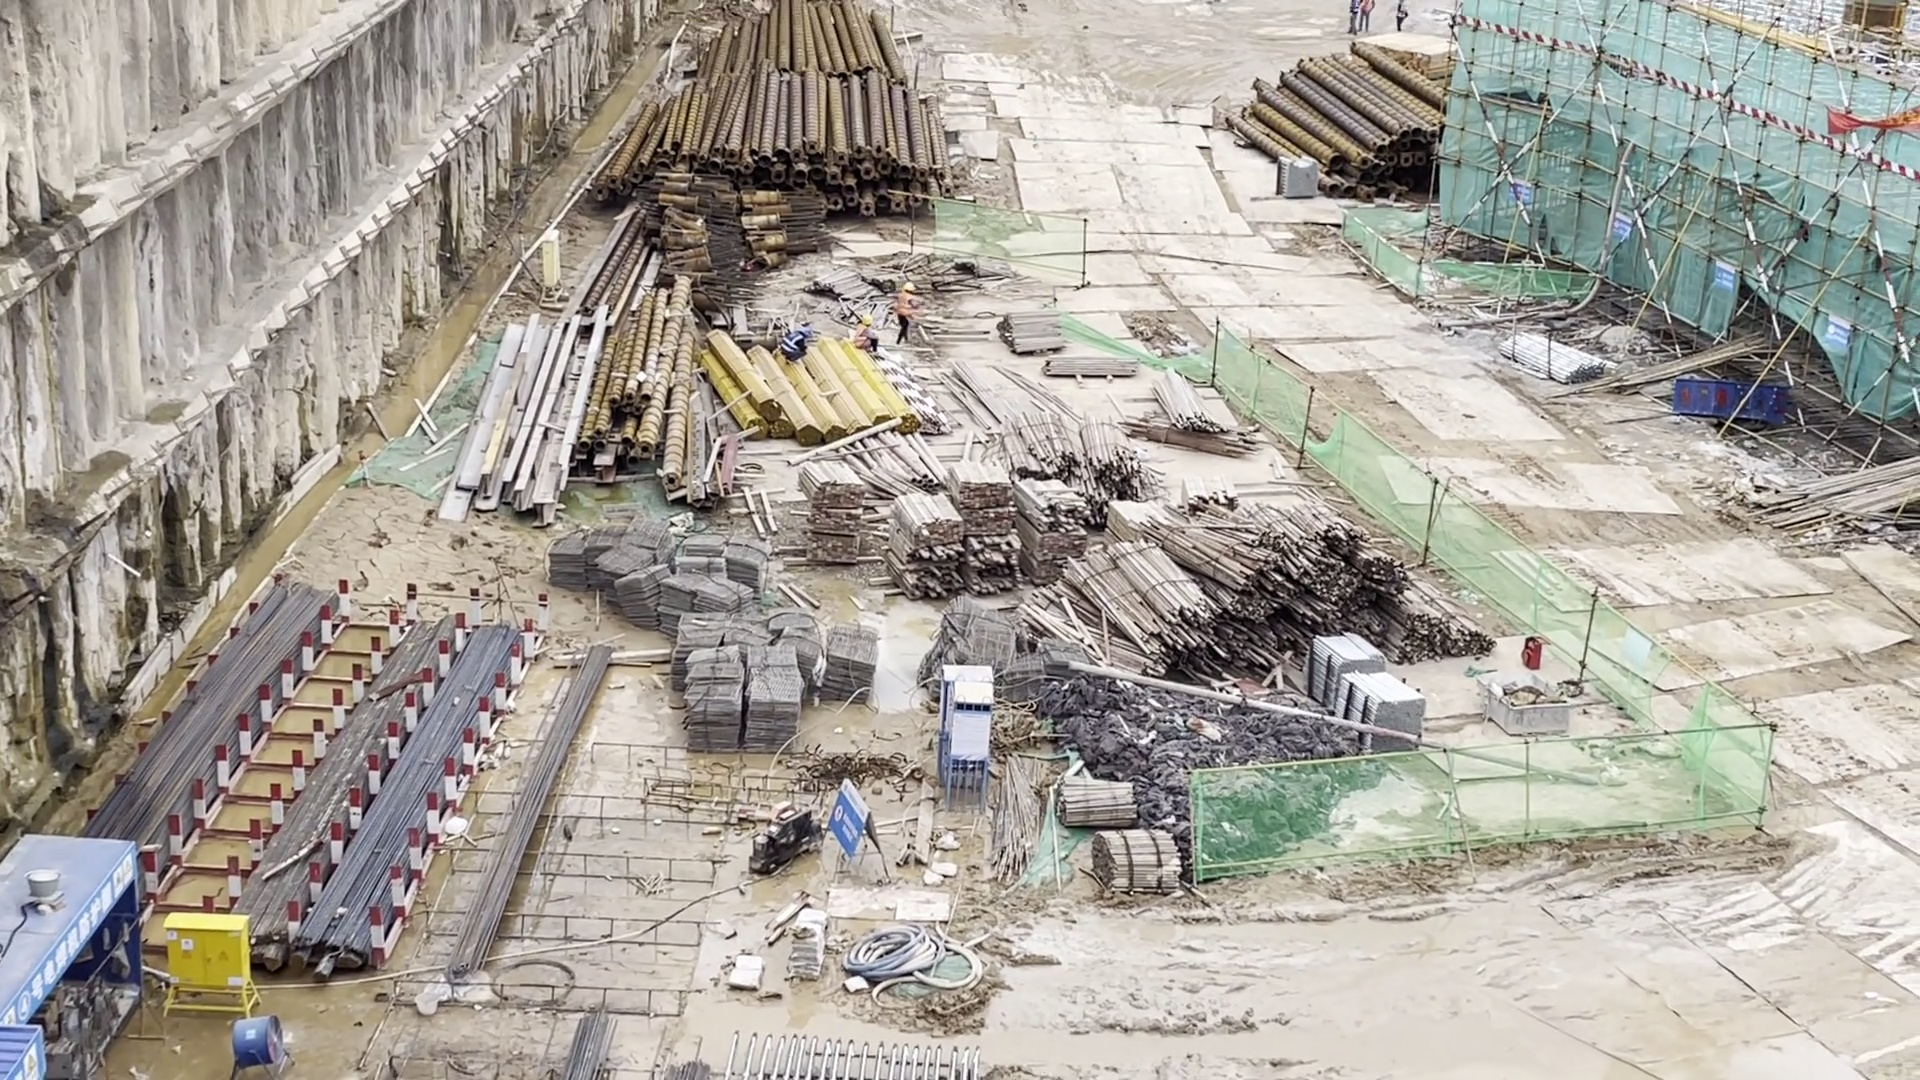brick: (1310, 633, 1424, 754)
ebox: (163, 913, 254, 1012)
helmet: (862, 316, 877, 328), (803, 326, 815, 337), (903, 282, 918, 291)
hopper: (1475, 672, 1571, 738), (1673, 372, 1785, 427)
person: (886, 273, 925, 341), (849, 300, 894, 357), (773, 317, 816, 371), (1346, 2, 1359, 33), (1395, 3, 1410, 29), (1364, 1, 1374, 30)
rebar: (137, 560, 489, 887), (445, 636, 633, 977)
slogan: (11, 863, 131, 1025)
vest: (894, 291, 918, 316), (777, 333, 802, 355), (852, 325, 867, 349)
wood: (1011, 505, 1498, 649), (813, 421, 1173, 597)
